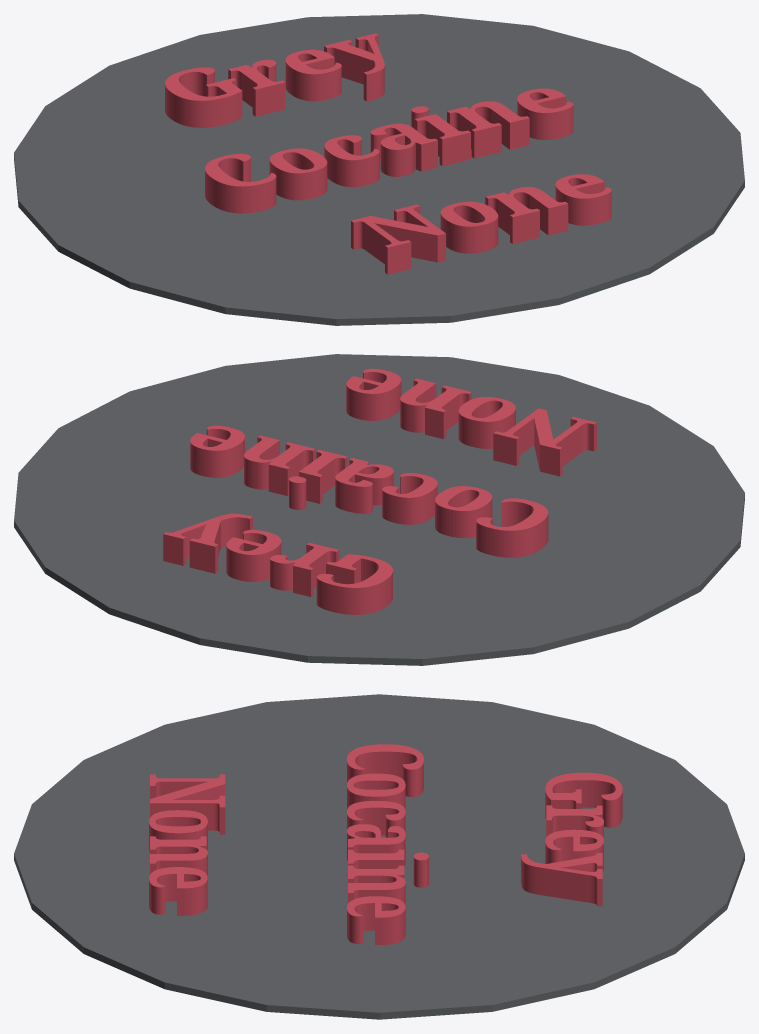
File: oklahoma.gltf
The picture shows the model from 3 angles, top to bottom: view 1: azimuth 30°, elevation 25°; view 2: azimuth 150°, elevation 25°; view 3: azimuth 270°, elevation 25°; orthographic projection.
Visible parts, largest first — view 1: Mesh_Mesh_head_geo001_lambert2SG001; view 2: Mesh_Mesh_head_geo001_lambert2SG001; view 3: Mesh_Mesh_head_geo001_lambert2SG001.
Part boxes in pixels (x1,y1,x2,y2): Mesh_Mesh_head_geo001_lambert2SG001: (14,14,744,325); Mesh_Mesh_head_geo001_lambert2SG001: (14,354,744,665); Mesh_Mesh_head_geo001_lambert2SG001: (14,694,744,1019).
Size of the model in its own units: 199 by 10 by 193.
